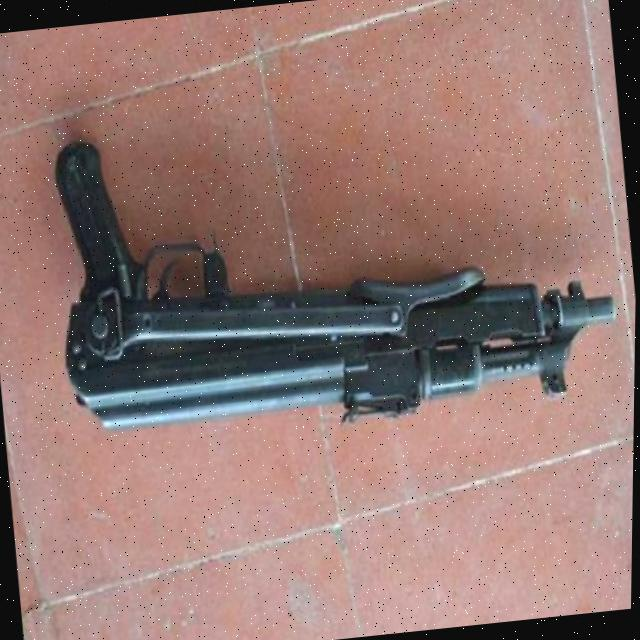firearm: (39, 84, 626, 449)
